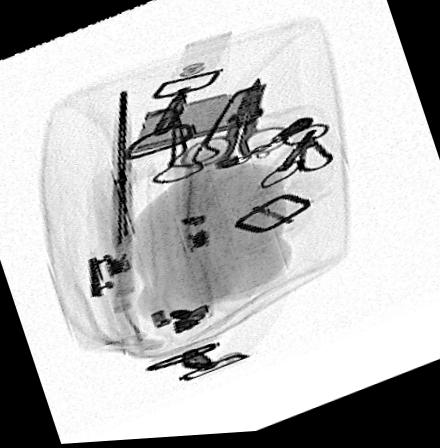Scissors: (106, 95, 143, 256)
